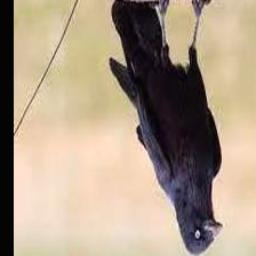Crow: (110, 0, 224, 256)
